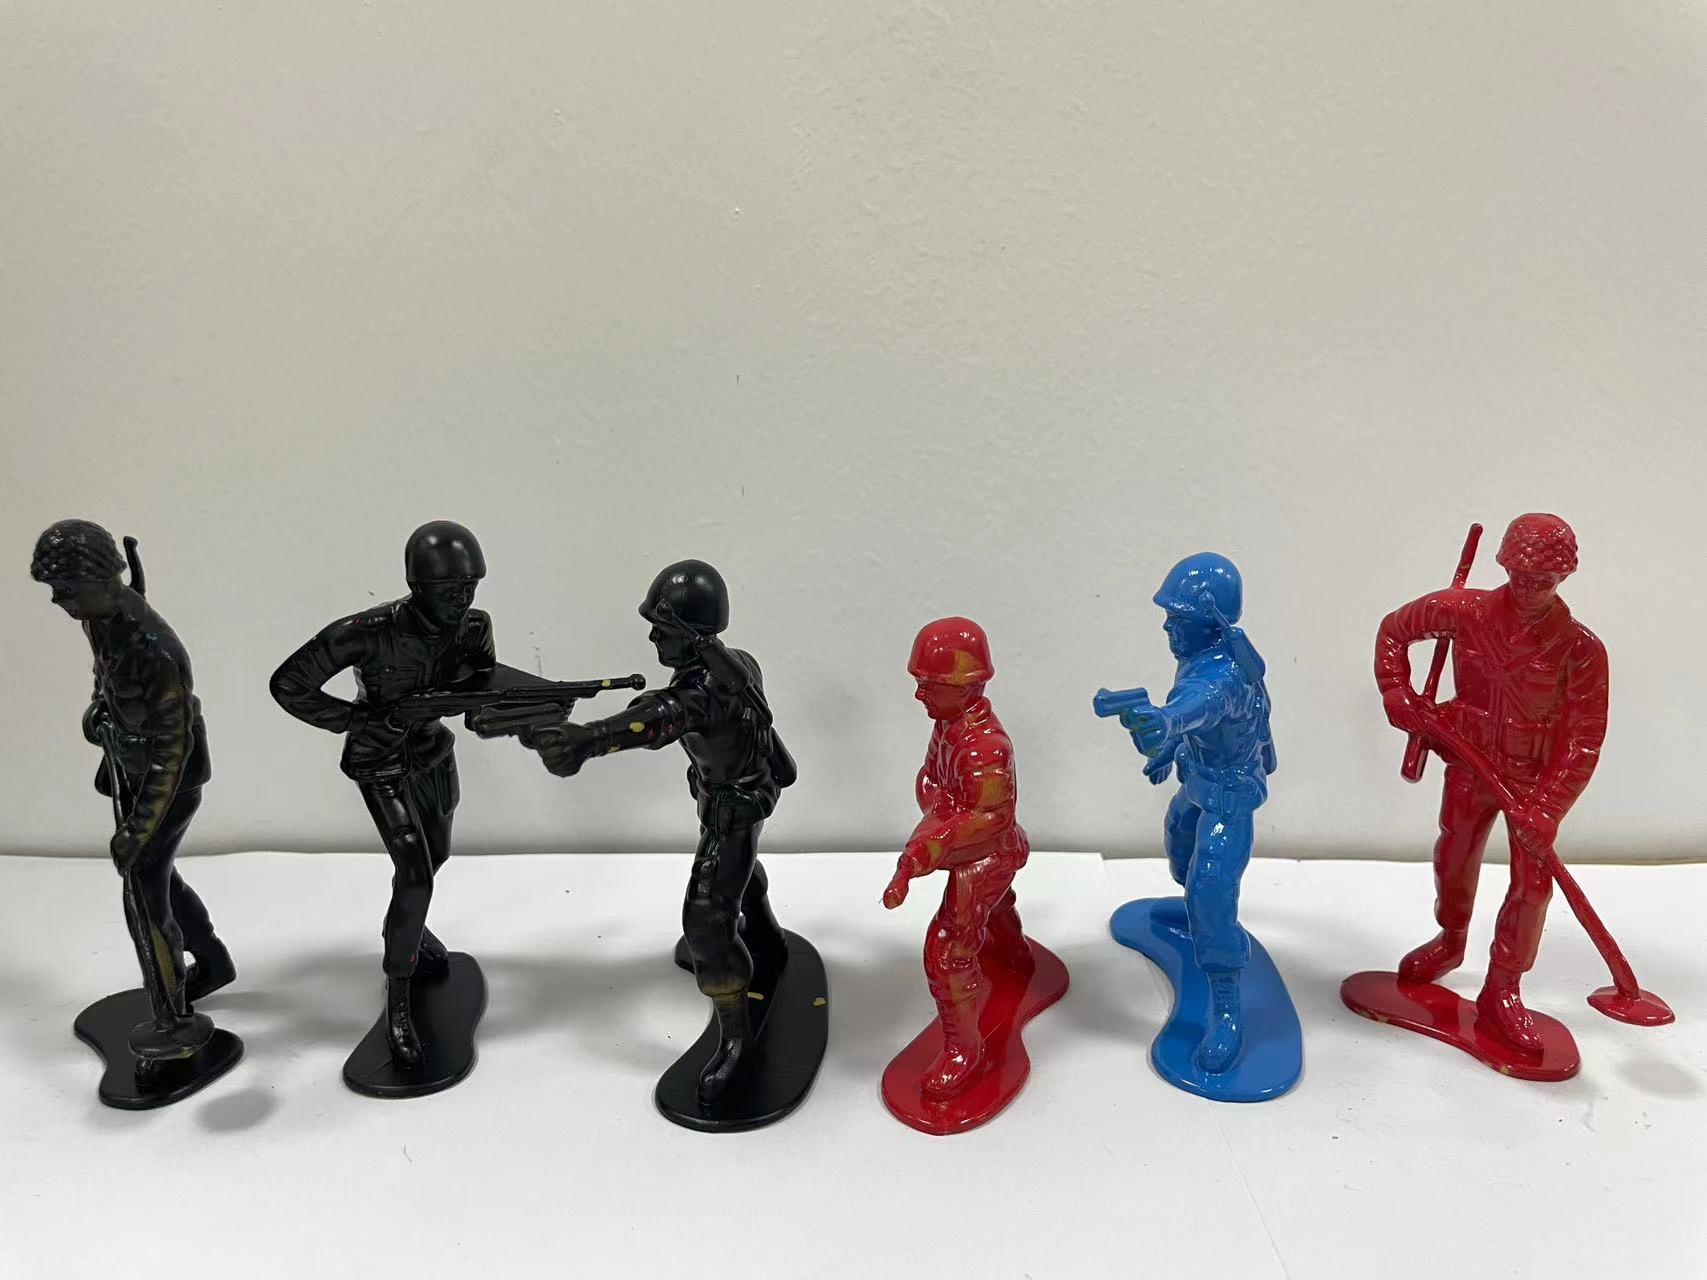black: (544, 553, 849, 1164), (274, 510, 581, 1113), (13, 510, 255, 1119)
blue: (1074, 536, 1335, 1167)
red: (1337, 479, 1673, 1158), (862, 600, 1095, 1146)
